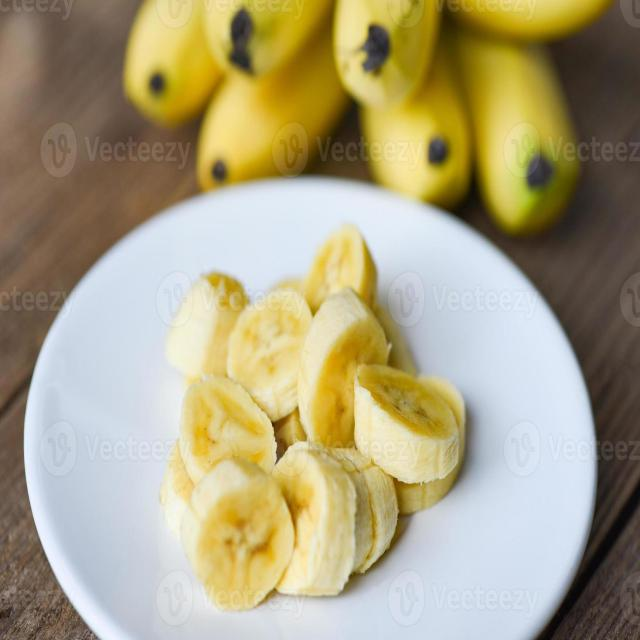organic: (165, 224, 469, 616), (123, 0, 616, 238)
